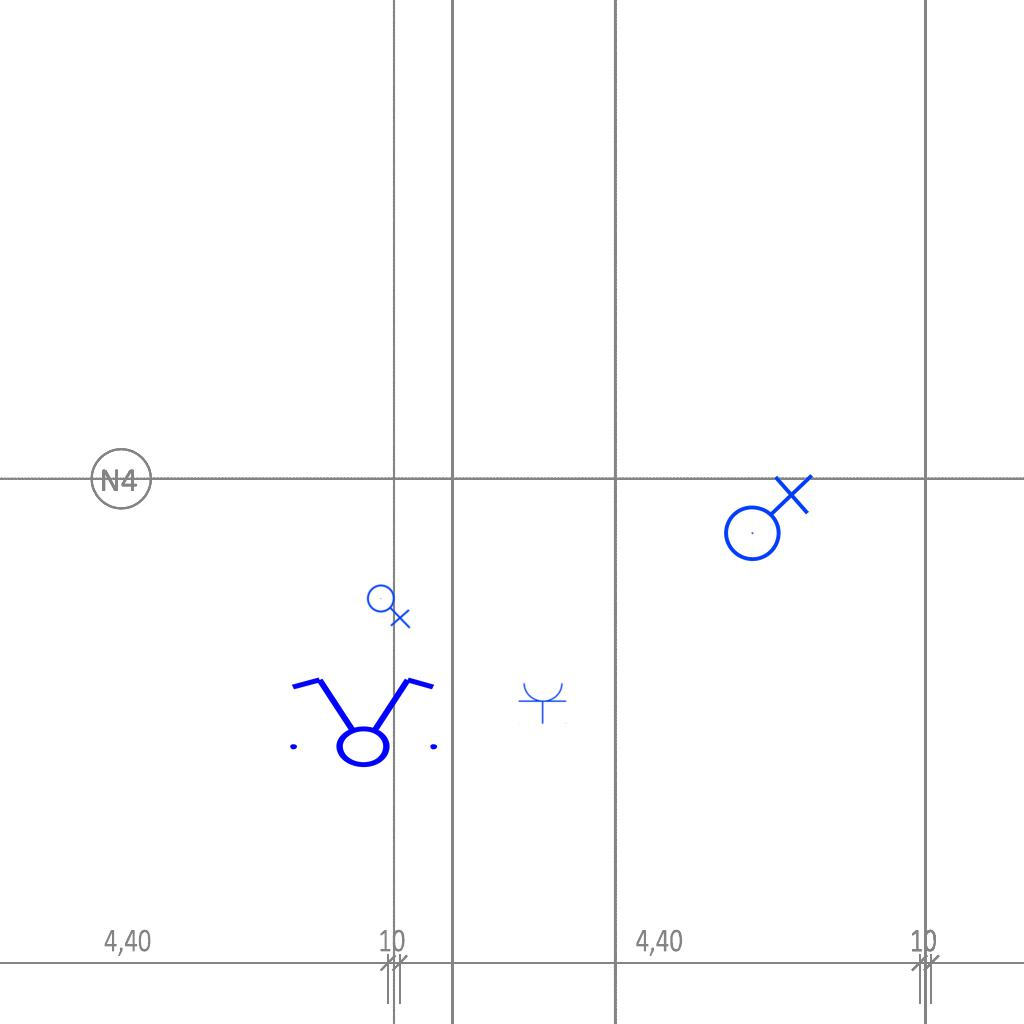Elektroanschluss_allgemein_230V_Geraeteanschlussdose_230V: (715, 469, 814, 563), (366, 580, 413, 629)
Schukosteckdose_einfach: (518, 681, 568, 724)
Serienschalter: (278, 673, 446, 769)
